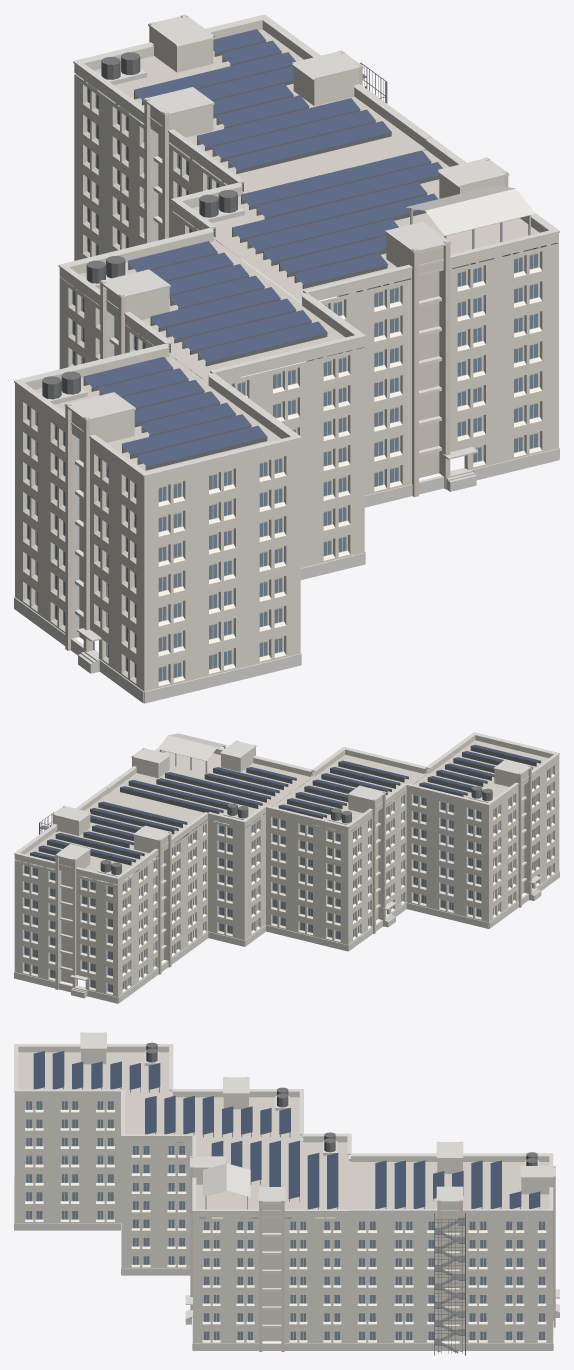
The model's file is Yamuna_Hostel.fbx.
3 views of the same model, one above another, from view 1: azimuth 30°, elevation 25°; view 2: azimuth 150°, elevation 25°; view 3: azimuth 270°, elevation 25° (orthographic). The views are drawn at different scales.
Visible parts, largest first — view 1: Yamuna_Hostel; view 2: Yamuna_Hostel; view 3: Yamuna_Hostel.
Boxes of the visible parts, bbox=[...] form: Yamuna_Hostel: bbox=[14, 14, 559, 703]; Yamuna_Hostel: bbox=[14, 732, 559, 1003]; Yamuna_Hostel: bbox=[14, 1032, 559, 1355].
Bounding box in the file's own units: 70.88 × 28.94 × 91.92.
